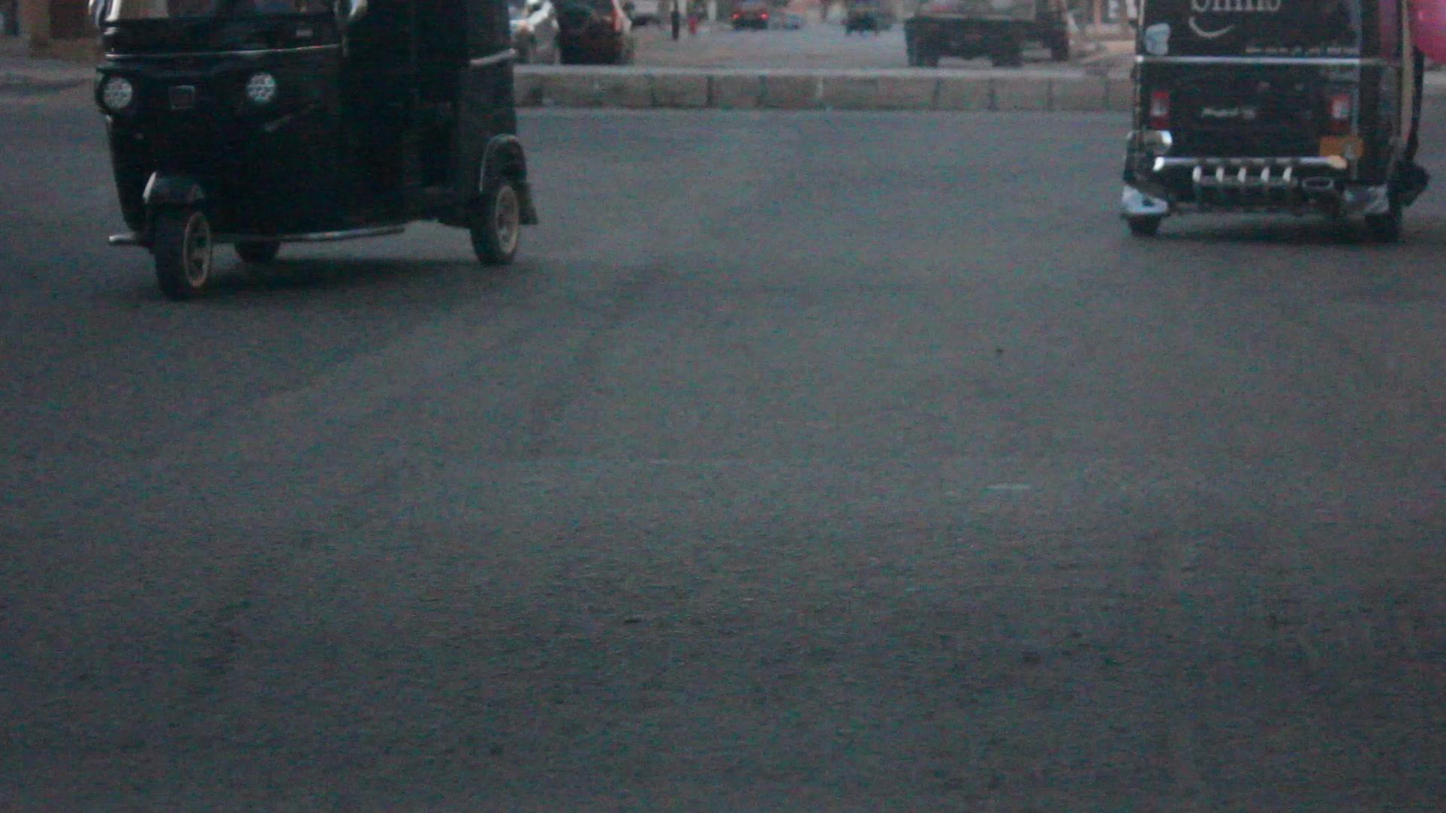Bump: (0, 280, 1446, 476)
